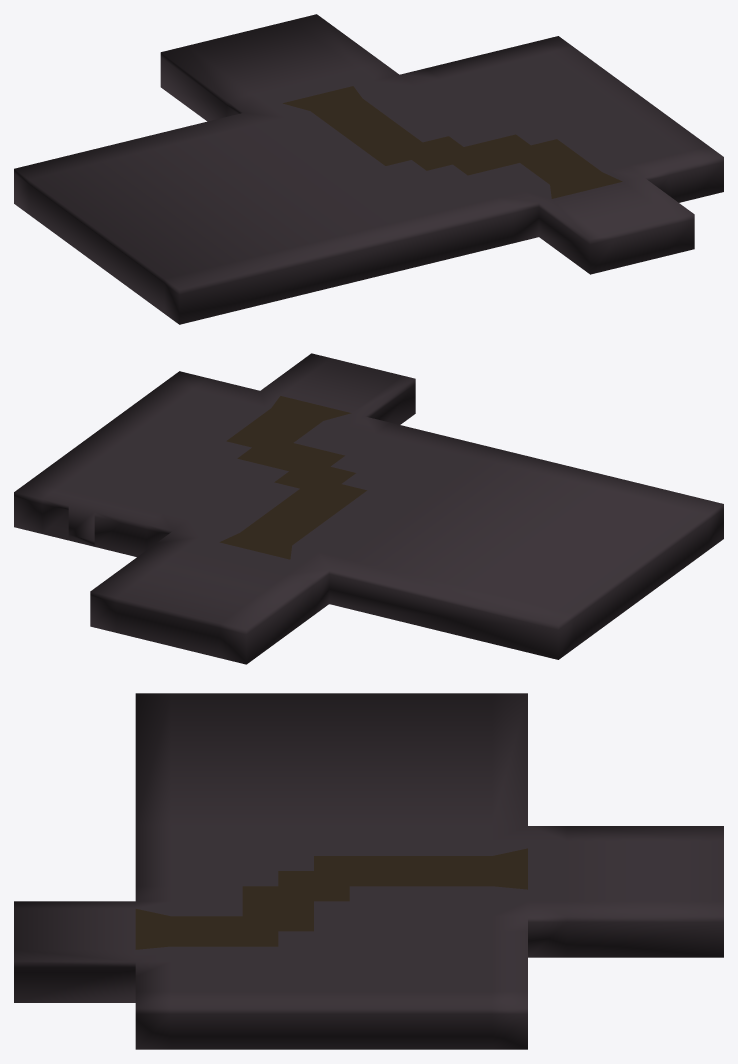
File: ground.fbx
3 renders of one model, top to bottom at view 1: azimuth 30°, elevation 25°; view 2: azimuth 150°, elevation 25°; view 3: azimuth 270°, elevation 25°, orthographic. The views are drawn at different scales.
Visible parts, largest first — view 1: Ground-OG; view 2: Ground-OG; view 3: Ground-OG.
Part boxes in pixels (left/top/right/bottom): Ground-OG: left=14, top=14, right=723, bottom=324; Ground-OG: left=14, top=353, right=723, bottom=664; Ground-OG: left=14, top=693, right=723, bottom=1049.
Bounding box in the file's own units: 19000 × 1164 × 18100.
